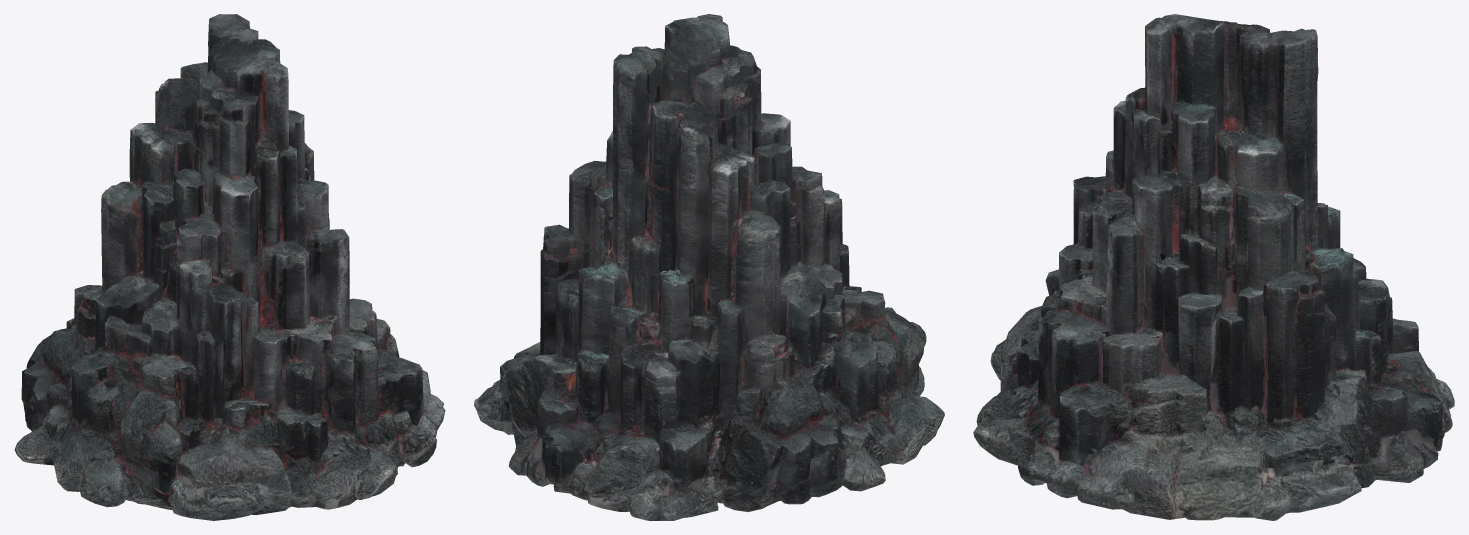
The model's file is basalt_pinnacle.glb.
3 renders of one model, left to right at view 1: azimuth 30°, elevation 25°; view 2: azimuth 150°, elevation 25°; view 3: azimuth 270°, elevation 25°, orthographic. The views are drawn at different scales.
Parts seen in each view (by area): view 1: Mesh1.0; view 2: Mesh1.0; view 3: Mesh1.0.
Part boxes in pixels (x1,y1,x2,y2): Mesh1.0: [14, 14, 445, 520]; Mesh1.0: [474, 14, 944, 520]; Mesh1.0: [973, 14, 1454, 520].
Size of the model in its own units: 1.89 by 1.84 by 1.91.
Materials: 1 (1 with a texture image).
